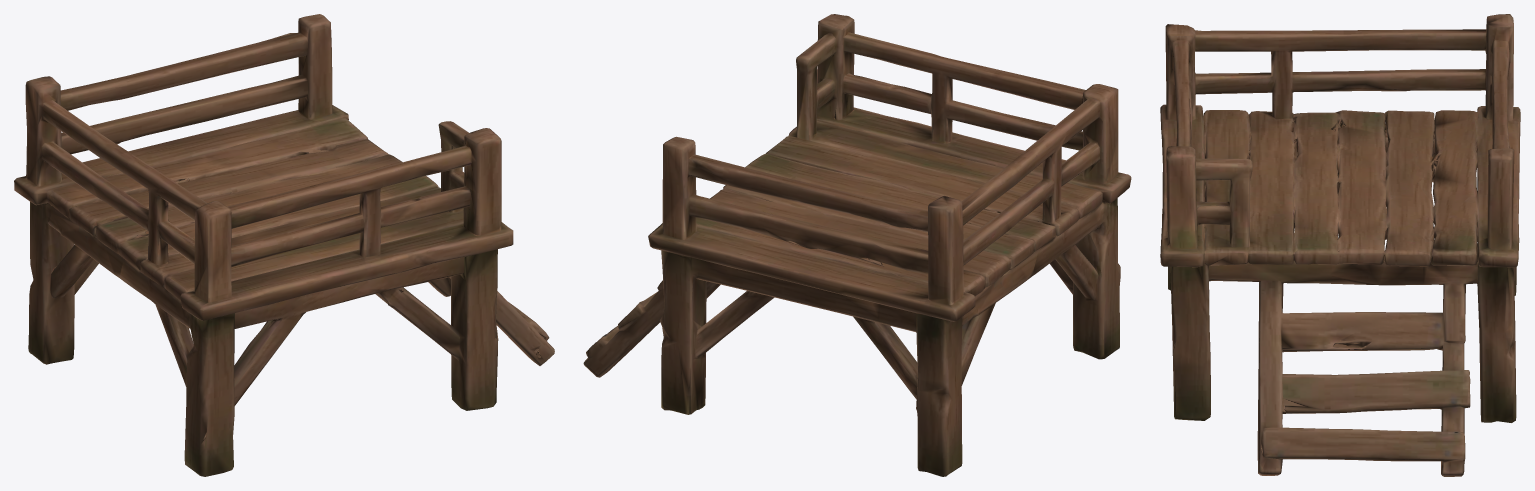
Rendered from anden_andarivel.movil.glb.
The picture shows the model from 3 angles, left to right: view 1: azimuth 30°, elevation 25°; view 2: azimuth 150°, elevation 25°; view 3: azimuth 270°, elevation 25°; orthographic projection. The views are drawn at different scales.
Parts seen in each view (by area): view 1: geometry_0; view 2: geometry_0; view 3: geometry_0.
Boxes of the visible parts, x1,y1,x2,y2 form: geometry_0: [14, 14, 554, 476]; geometry_0: [583, 14, 1131, 476]; geometry_0: [1160, 14, 1520, 476].
Bounding box in the file's own units: 0.9974 × 0.6648 × 0.7763.
1 material, 1 textured.
